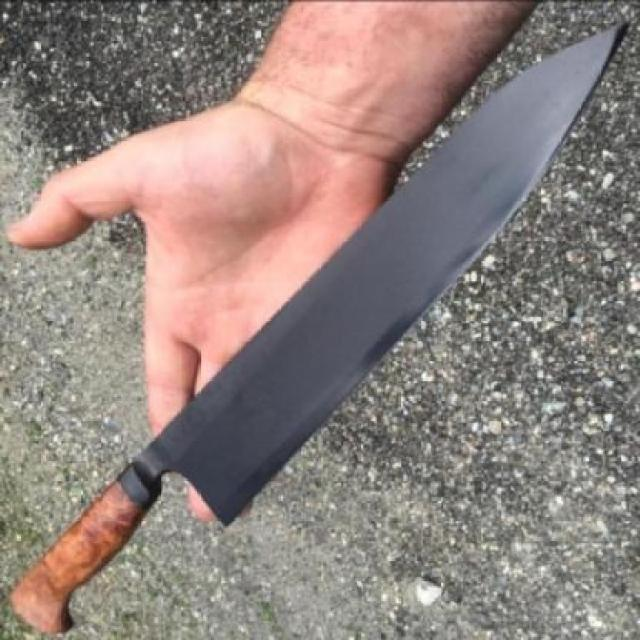knife: (11, 22, 627, 633)
